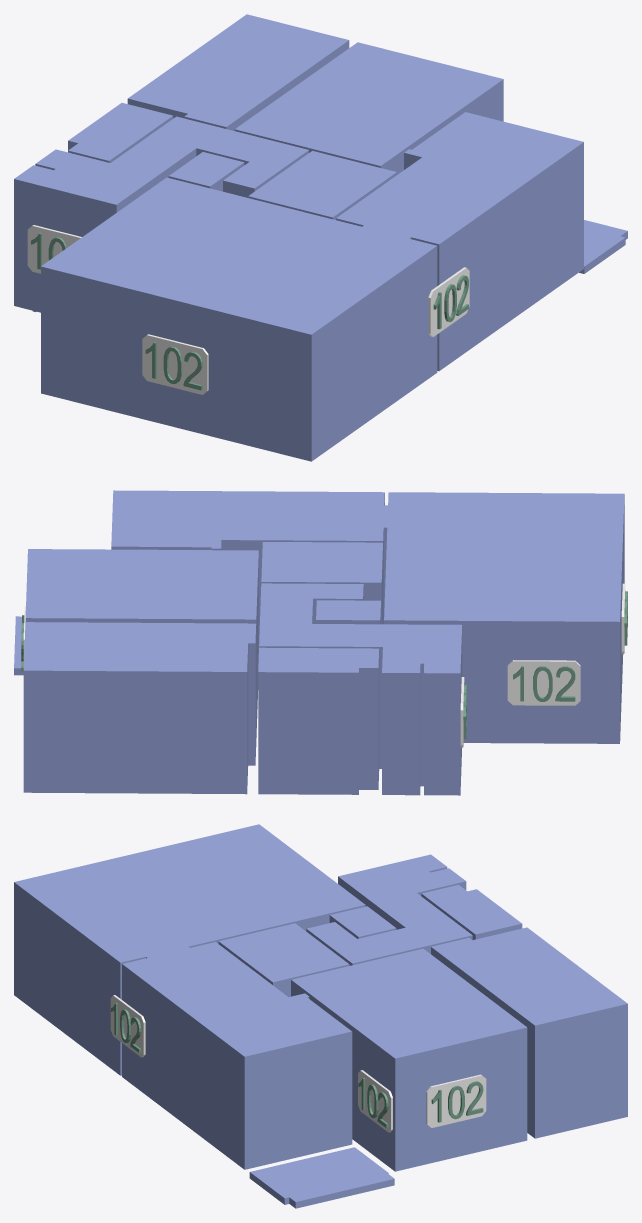
3 renders of one model, top to bottom at view 1: azimuth 30°, elevation 25°; view 2: azimuth 150°, elevation 25°; view 3: azimuth 270°, elevation 25°, orthographic. The views are drawn at different scales.
Parts seen in each view (by area): view 1: g_1, g_0, g_3, g_7, g_4, g_2, g_5, g_28, g_6, g_8, g_32, g_16; view 2: g_1, g_4, g_7, g_5, g_3, g_0, g_2, g_12, g_6, g_8; view 3: g_1, g_0, g_3, g_4, g_7, g_8, g_2, g_5, g_20, g_6, g_32, g_24.
Part boxes in pixels (left/top/right/bottom): g_1: left=41, top=177, right=437, bottom=461; g_0: left=336, top=112, right=583, bottom=371; g_3: left=234, top=42, right=503, bottom=174; g_7: left=14, top=116, right=308, bottom=312; g_4: left=127, top=14, right=349, bottom=130; g_2: left=248, top=151, right=396, bottom=219; g_5: left=68, top=103, right=173, bottom=162; g_28: left=142, top=334, right=208, bottom=394; g_6: left=168, top=152, right=244, bottom=191; g_8: left=579, top=220, right=627, bottom=273; g_32: left=428, top=267, right=469, bottom=336; g_16: left=27, top=225, right=81, bottom=273; g_1: left=384, top=492, right=624, bottom=743; g_4: left=23, top=622, right=256, bottom=794; g_7: left=259, top=583, right=462, bottom=795; g_5: left=258, top=647, right=379, bottom=794; g_3: left=25, top=549, right=258, bottom=737; g_0: left=111, top=490, right=386, bottom=653; g_2: left=261, top=542, right=382, bottom=624; g_12: left=507, top=660, right=580, bottom=705; g_6: left=316, top=600, right=380, bottom=624; g_8: left=14, top=616, right=23, bottom=675; g_1: left=14, top=824, right=365, bottom=1075; g_0: left=122, top=942, right=352, bottom=1169; g_3: left=291, top=948, right=527, bottom=1171; g_4: left=431, top=927, right=627, bottom=1138; g_7: left=306, top=854, right=472, bottom=965; g_8: left=249, top=1147, right=394, bottom=1208; g_2: left=218, top=923, right=349, bottom=996; g_5: left=421, top=885, right=522, bottom=939; g_20: left=426, top=1074, right=486, bottom=1127; g_6: left=329, top=906, right=396, bottom=938; g_32: left=110, top=995, right=145, bottom=1057; g_24: left=358, top=1070, right=392, bottom=1132.
Bounding box in the file's own units: 12.9 × 2.74 × 12.67.
